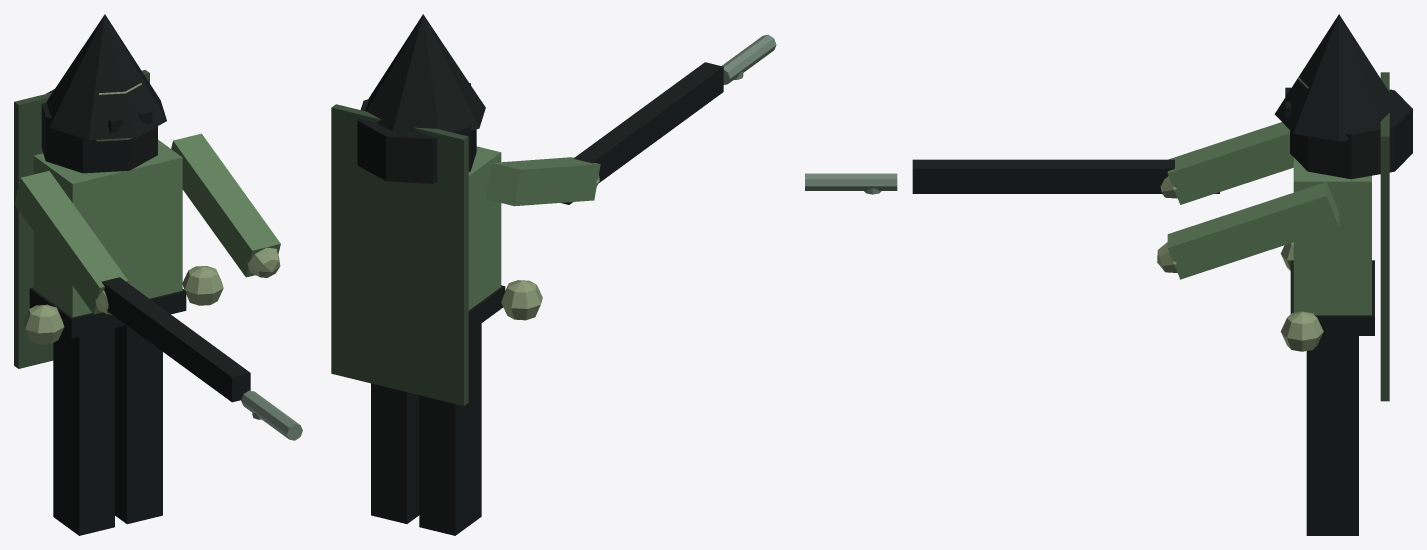
File: SM_Champion_9030_Mortis.glb
The picture shows the model from 3 angles, left to right: view 1: azimuth 30°, elevation 25°; view 2: azimuth 150°, elevation 25°; view 3: azimuth 270°, elevation 25°; orthographic projection.
Visible parts, largest first — view 1: SM_Champion_9030_Mortis; view 2: SM_Champion_9030_Mortis; view 3: SM_Champion_9030_Mortis.
Part boxes in pixels (x1=…): SM_Champion_9030_Mortis: x1=14, y1=14, x2=302, y2=535; SM_Champion_9030_Mortis: x1=331, y1=14, x2=776, y2=535; SM_Champion_9030_Mortis: x1=805, y1=14, x2=1412, y2=535.
Bounding box in the file's own units: 0.8288 × 2.02 × 2.21.
